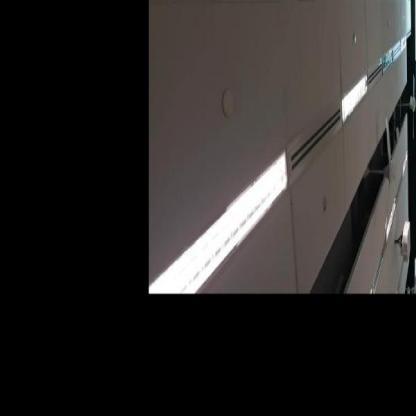light_on: (148, 143, 292, 294), (335, 69, 371, 128), (379, 186, 399, 247), (400, 145, 409, 181)
